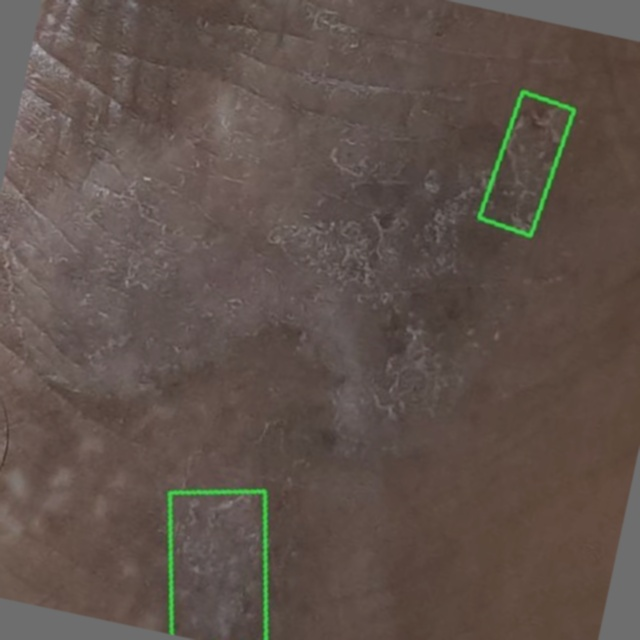Eczema: (170, 492, 266, 639), (480, 92, 574, 236)
